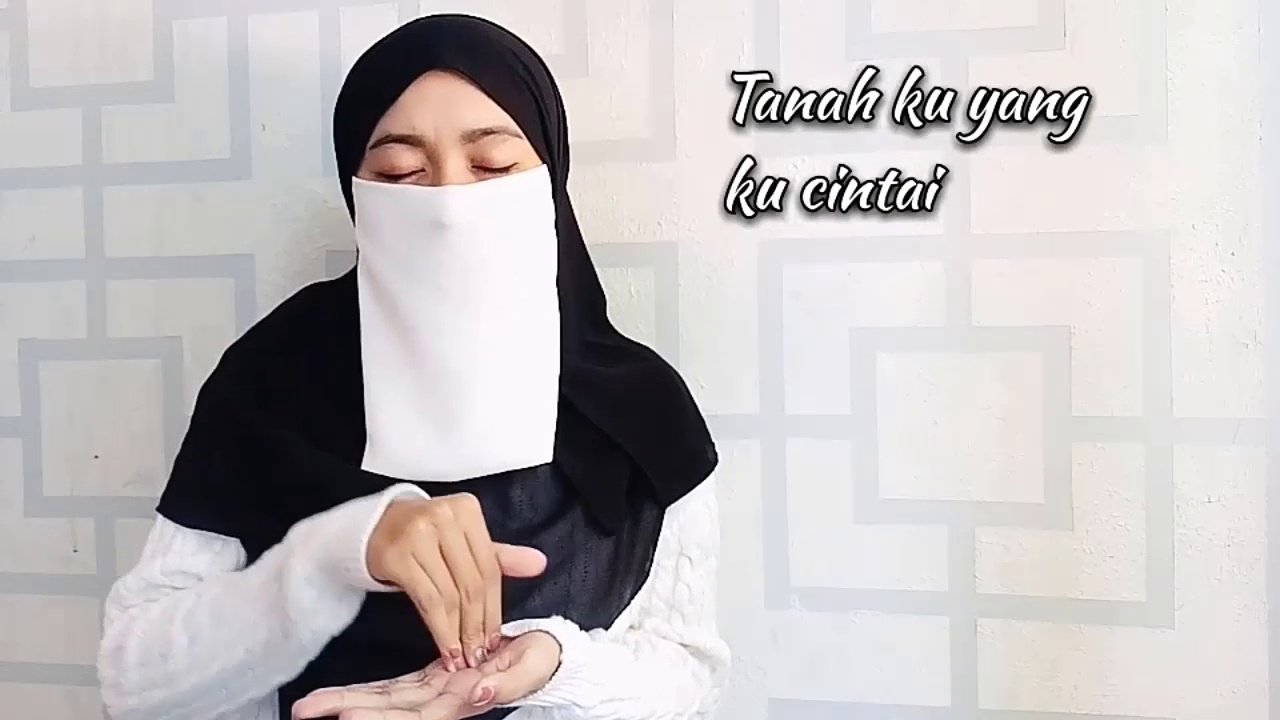TANAH: (267, 477, 579, 720)
